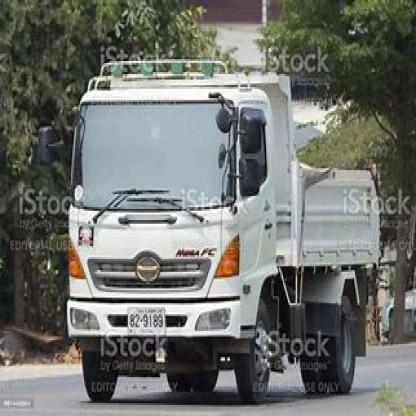dump_truck: (52, 48, 403, 390)
